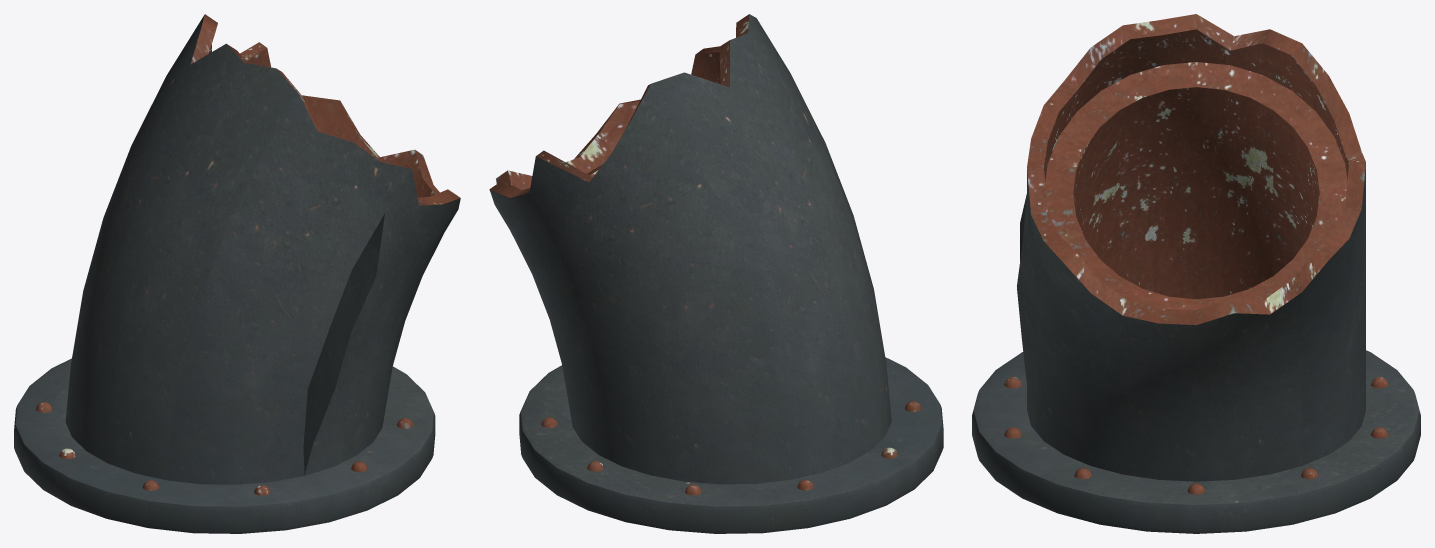
File: Powerplant_Model_Environment_Broken90PipeTextured.fbx
3 renders of one model, left to right at view 1: azimuth 30°, elevation 25°; view 2: azimuth 150°, elevation 25°; view 3: azimuth 270°, elevation 25°, orthographic. The views are drawn at different scales.
Visible parts, largest first — view 1: 90 Pipe; view 2: 90 Pipe; view 3: 90 Pipe.
Part boxes in pixels (x1,y1,x2,y2): 90 Pipe: (14, 14, 460, 533); 90 Pipe: (489, 14, 943, 533); 90 Pipe: (972, 14, 1420, 533).
Size of the model in its own units: 51.97 by 50.12 by 47.62.
2 materials, 2 textured.
